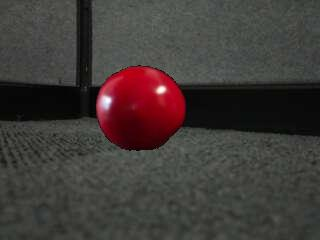Tomato: (94, 66, 184, 151)
